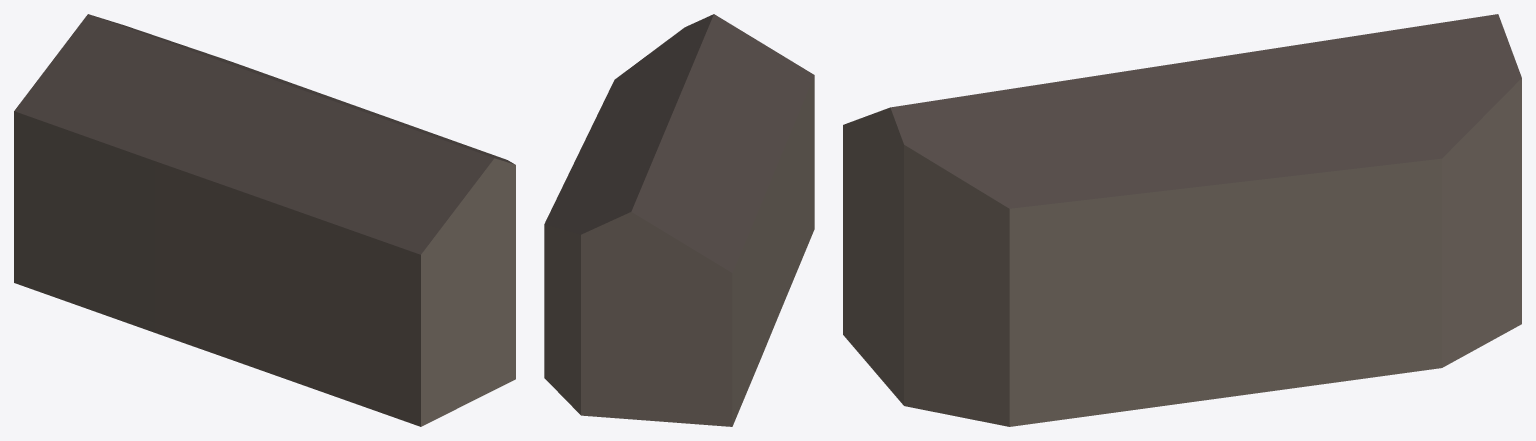
3 views of the same model, side by side, from view 1: azimuth 30°, elevation 25°; view 2: azimuth 150°, elevation 25°; view 3: azimuth 270°, elevation 25° (orthographic). The views are drawn at different scales.
Parts seen in each view (by area): view 1: HP-w1198845818; view 2: HP-w1198845818; view 3: HP-w1198845818.
Part boxes in pixels (bbox=[...]): HP-w1198845818: bbox=[14, 14, 515, 426]; HP-w1198845818: bbox=[544, 14, 814, 426]; HP-w1198845818: bbox=[843, 14, 1521, 426].
Size of the model in its own units: 11.42 by 8.1 by 17.63.
